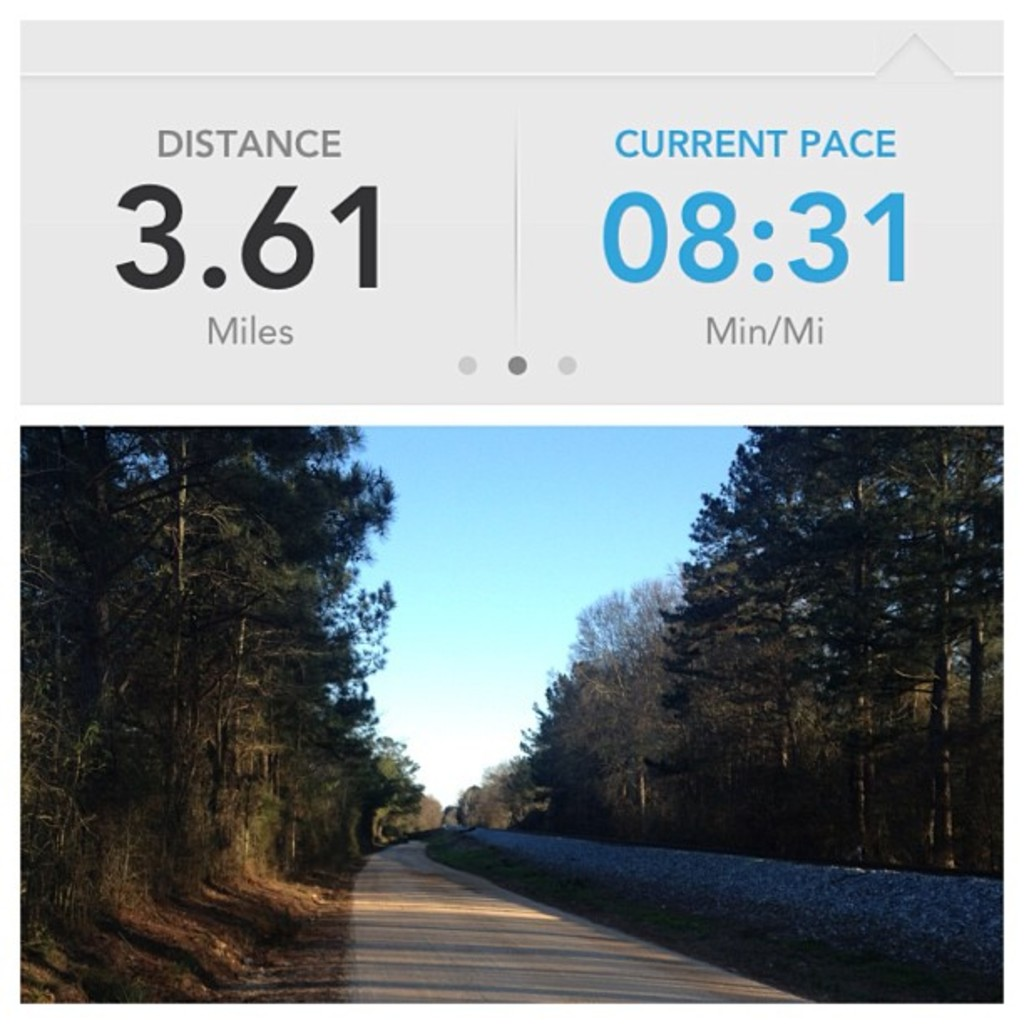Tree: (20, 424, 396, 943), (655, 426, 1002, 880), (450, 557, 691, 843), (353, 734, 448, 855)
